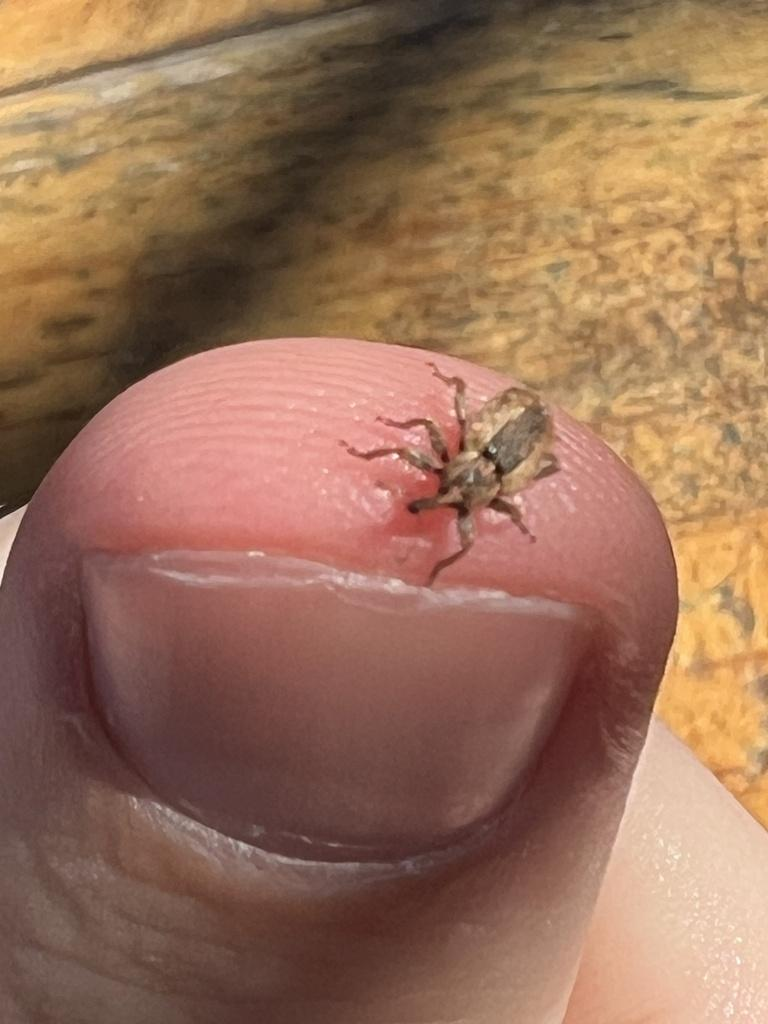weevils: (306, 280, 640, 633)
